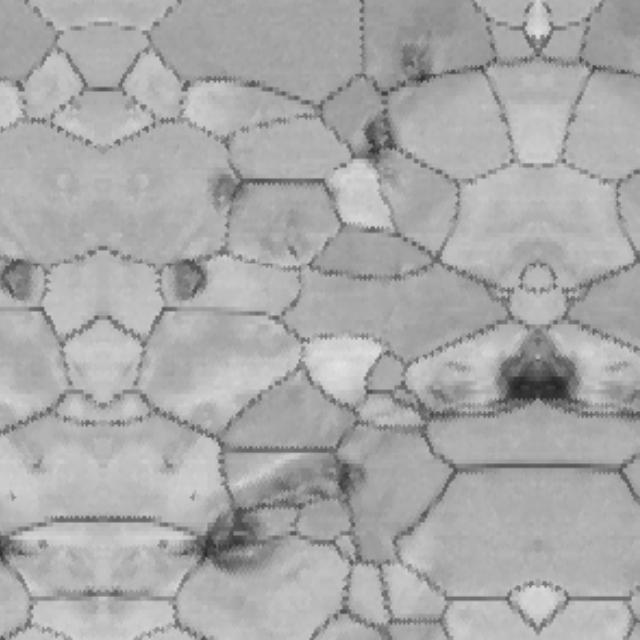good_void: (173, 507, 277, 576), (421, 355, 486, 412), (240, 468, 328, 506), (589, 355, 640, 412), (498, 340, 537, 407), (538, 340, 577, 407), (395, 33, 438, 88), (0, 511, 31, 566), (355, 108, 388, 158), (264, 226, 307, 264), (175, 255, 210, 299), (0, 256, 29, 299), (204, 173, 229, 204), (333, 463, 352, 494), (181, 484, 203, 507), (1, 484, 23, 507), (159, 453, 182, 474), (22, 453, 45, 474), (155, 538, 172, 551), (32, 538, 49, 551)
